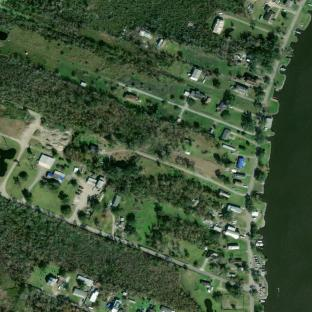Floresta: (0, 198, 200, 312), (0, 54, 184, 151), (64, 143, 219, 214), (17, 13, 171, 76), (135, 170, 210, 210), (238, 32, 279, 72)
